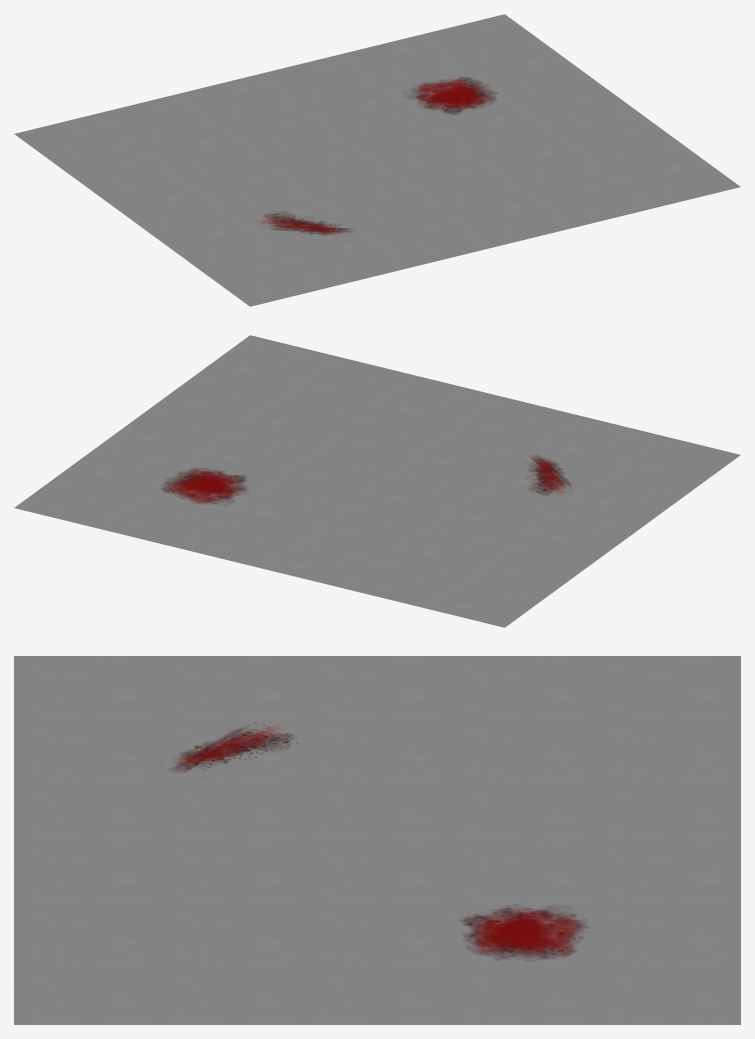
File: Last_room_floor.fbx
3 renders of one model, top to bottom at view 1: azimuth 30°, elevation 25°; view 2: azimuth 150°, elevation 25°; view 3: azimuth 270°, elevation 25°, orthographic. The views are drawn at different scales.
Parts seen in each view (by area): view 1: Last_room_floor; view 2: Last_room_floor; view 3: Last_room_floor.
Boxes of the visible parts, x1,y1,x2,y2 form: Last_room_floor: [14, 14, 740, 306]; Last_room_floor: [14, 335, 740, 627]; Last_room_floor: [14, 656, 740, 1024].
Size of the model in its own units: 18 by 0 by 15.
Materials: 1 (1 with a texture image).
